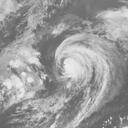cyclone: (54, 32, 116, 90)
